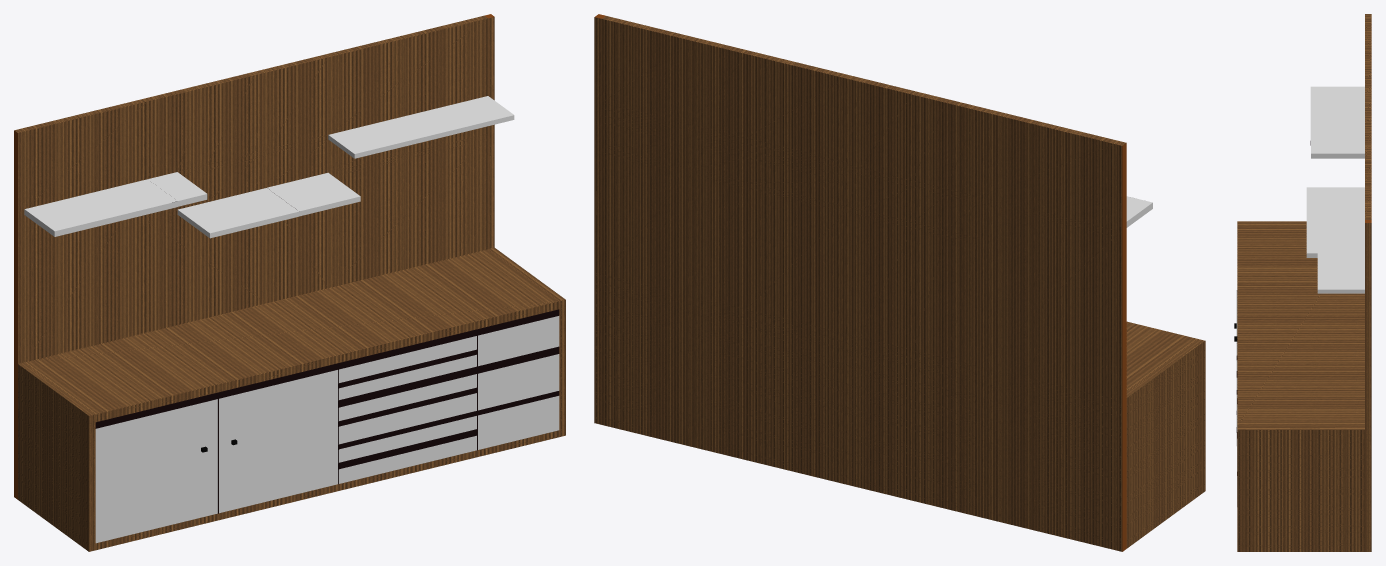
Rendered from Rack_Lidiane_5Trevo.fbx.
The picture shows the model from 3 angles, left to right: view 1: azimuth 30°, elevation 25°; view 2: azimuth 150°, elevation 25°; view 3: azimuth 270°, elevation 25°; orthographic projection. The views are drawn at different scales.
Visible parts, largest first — view 1: Cubo; view 2: Cubo; view 3: Cubo.
Boxes of the visible parts, x1=… form: Cubo: x1=14, y1=14, x2=565, y2=551; Cubo: x1=594, y1=14, x2=1205, y2=551; Cubo: x1=1234, y1=14, x2=1371, y2=551.
Bounding box in the file's own units: 7.34 × 5.4 × 2.04.
Materials: 5 (2 with a texture image).
